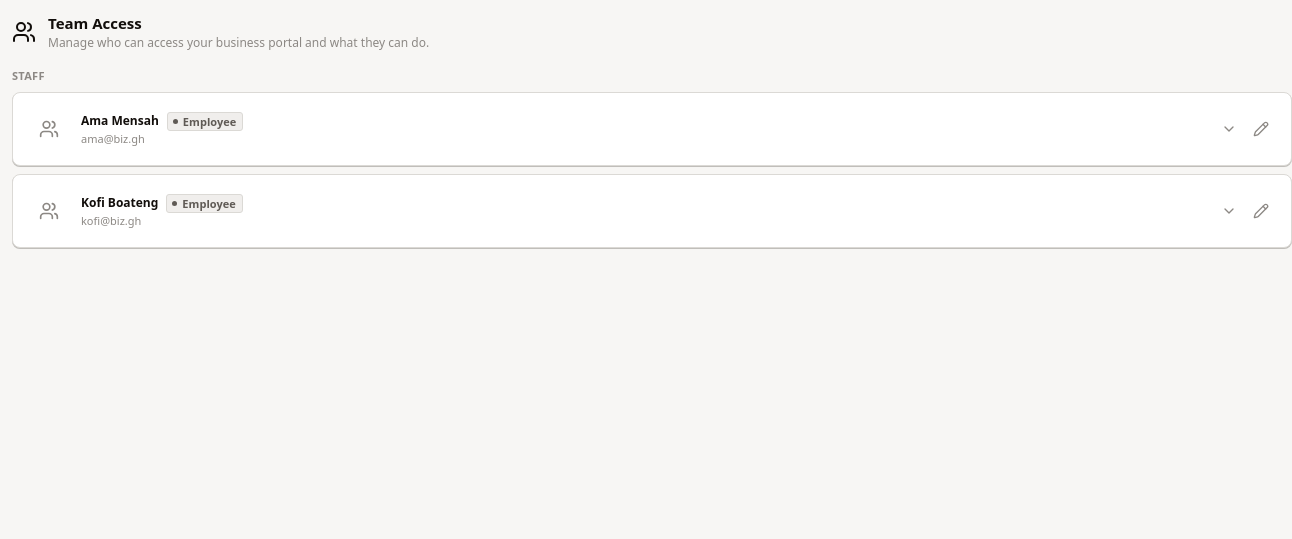
it: TeamAccess — permission editing flow (Finding 3) › closes the editor only after the server confirms, with a success toast
Expected: the text "Ama Mensah" is shown, [81,112,159,130]
Click the button named "Edit permissions for Ama Mensah": (1261, 129) [1247,115,1275,143]
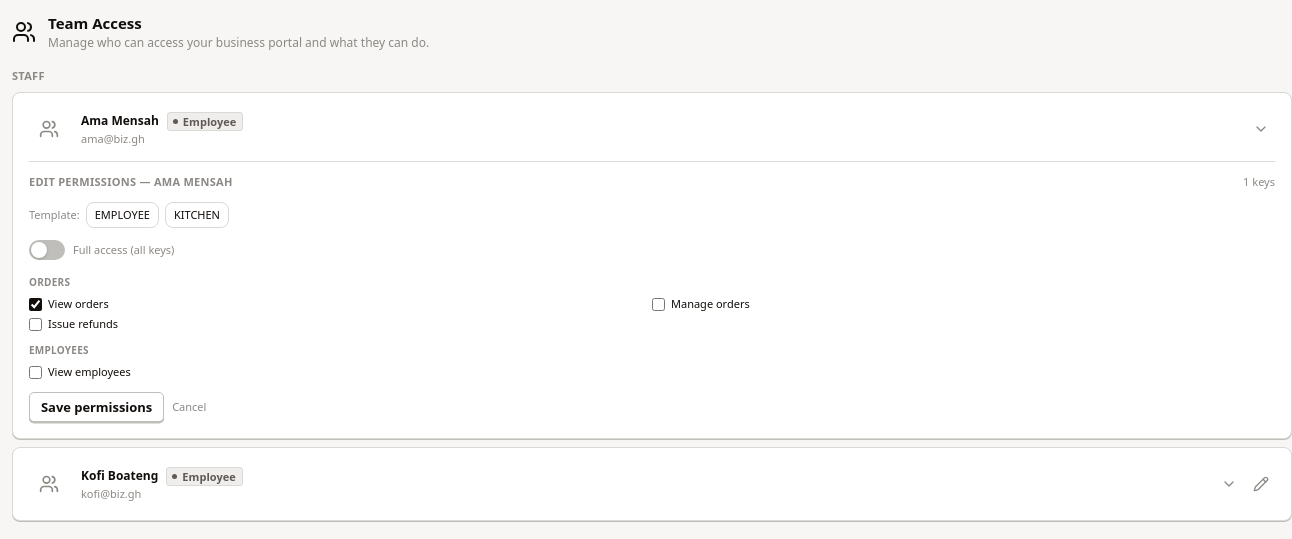
Click the button "Save permissions": (97, 407) [29,392,164,422]
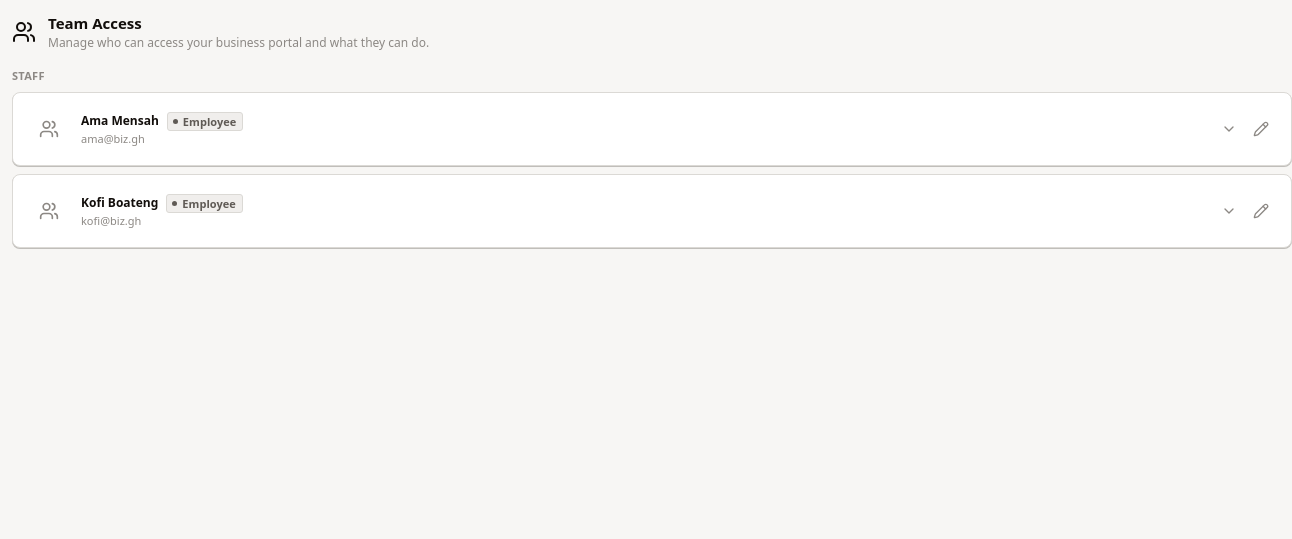
Expected: the element with test id "perms-editor-emp-1" is gone
